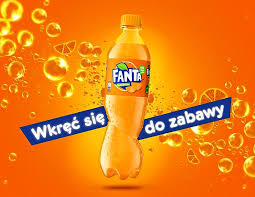fanta: (103, 14, 147, 176)
